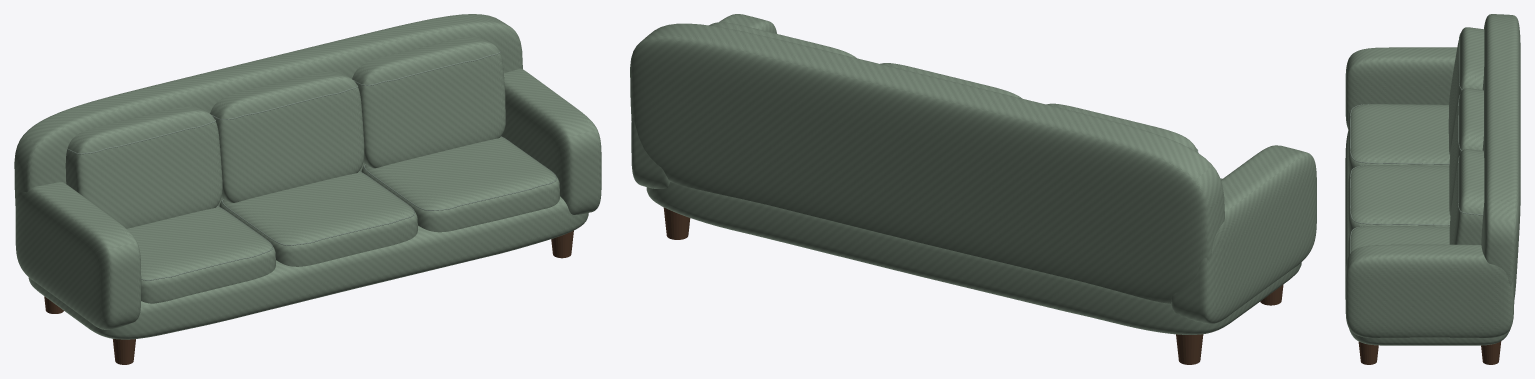
The model's file is lounge-sofa.glb.
3 views of the same model, side by side, from view 1: azimuth 30°, elevation 25°; view 2: azimuth 150°, elevation 25°; view 3: azimuth 270°, elevation 25° (orthographic). The views are drawn at different scales.
Visible parts, largest first — view 1: Upholstered back rail, Upholstered deck, Back cushion 1, Back cushion 2, Back cushion 0, Rounded arm, Seat cushion 2, Seat cushion 1, Seat cushion 0, Rounded arm.001, Cone, Cone.002; view 2: Upholstered back rail, Upholstered deck, Rounded arm, Rounded arm.001, Back cushion 0, Back cushion 2, Cone.001, Back cushion 1, Cone.003; view 3: Rounded arm.001, Upholstered back rail, Seat cushion 1, Rounded arm, Seat cushion 0, Back cushion 2, Back cushion 0, Back cushion 1, Seat cushion 2, Upholstered deck, Cone.002, Cone.003 (+2 smaller).
Part boxes in pixels (bbox=[...]): Upholstered back rail: bbox=[14, 14, 522, 206]; Upholstered deck: bbox=[28, 196, 588, 339]; Back cushion 1: bbox=[210, 71, 364, 202]; Back cushion 2: bbox=[352, 36, 505, 168]; Back cushion 0: bbox=[65, 106, 222, 228]; Rounded arm: bbox=[15, 182, 141, 329]; Seat cushion 2: bbox=[361, 137, 559, 232]; Seat cushion 1: bbox=[219, 171, 417, 266]; Seat cushion 0: bbox=[127, 206, 275, 303]; Rounded arm.001: bbox=[501, 68, 601, 214]; Cone: bbox=[113, 339, 135, 364]; Cone.002: bbox=[551, 230, 573, 258]; Upholstered back rail: bbox=[630, 23, 1224, 303]; Upholstered deck: bbox=[646, 181, 1301, 334]; Rounded arm: bbox=[1171, 145, 1316, 323]; Rounded arm.001: bbox=[631, 14, 776, 188]; Back cushion 0: bbox=[1046, 103, 1198, 152]; Back cushion 2: bbox=[709, 22, 856, 58]; Cone.001: bbox=[1176, 334, 1203, 364]; Back cushion 1: bbox=[880, 63, 1021, 98]; Cone.003: bbox=[663, 207, 690, 239]; Rounded arm.001: bbox=[1345, 244, 1513, 337]; Upholstered back rail: bbox=[1481, 14, 1520, 301]; Seat cushion 1: bbox=[1348, 165, 1450, 235]; Rounded arm: bbox=[1345, 47, 1457, 128]; Seat cushion 0: bbox=[1348, 104, 1449, 174]; Back cushion 2: bbox=[1449, 149, 1484, 244]; Back cushion 0: bbox=[1448, 27, 1484, 155]; Back cushion 1: bbox=[1449, 88, 1483, 216]; Seat cushion 2: bbox=[1348, 225, 1449, 256]; Upholstered deck: bbox=[1345, 131, 1514, 345]; Cone.002: bbox=[1358, 342, 1378, 364]; Cone.003: bbox=[1481, 341, 1501, 364].
Bounding box in the file's own units: 2.99 × 1.08 × 1.04.
3 materials, 1 textured.
